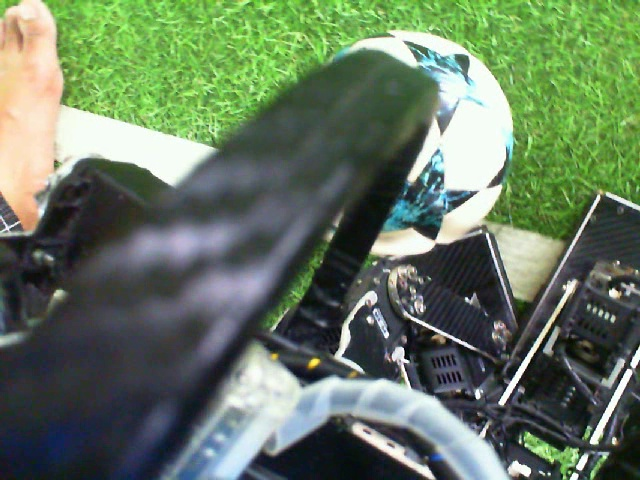ball: (367, 28, 516, 262)
